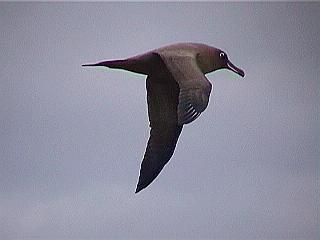bird: (79, 41, 246, 192)
